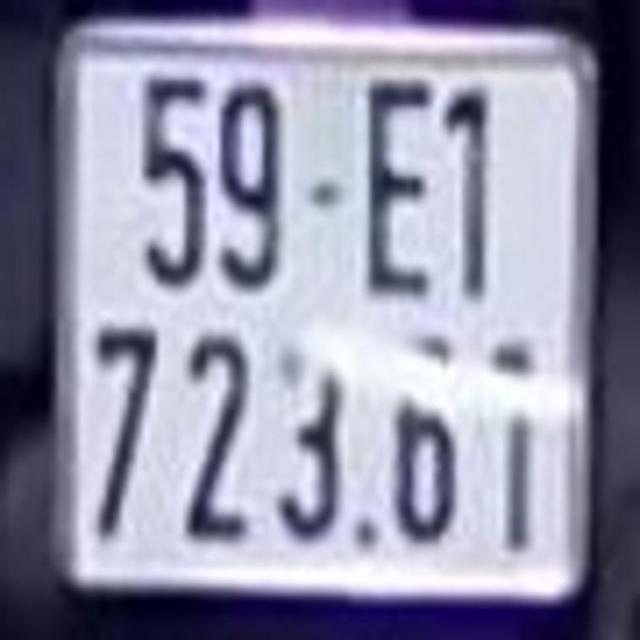1: (482, 325, 540, 554), (441, 78, 498, 304)
2: (180, 324, 248, 538)
3: (274, 328, 346, 546)
5: (135, 72, 212, 290)
6: (376, 321, 471, 544)
7: (94, 319, 158, 547)
9: (216, 80, 283, 290)
E: (361, 67, 433, 296)
